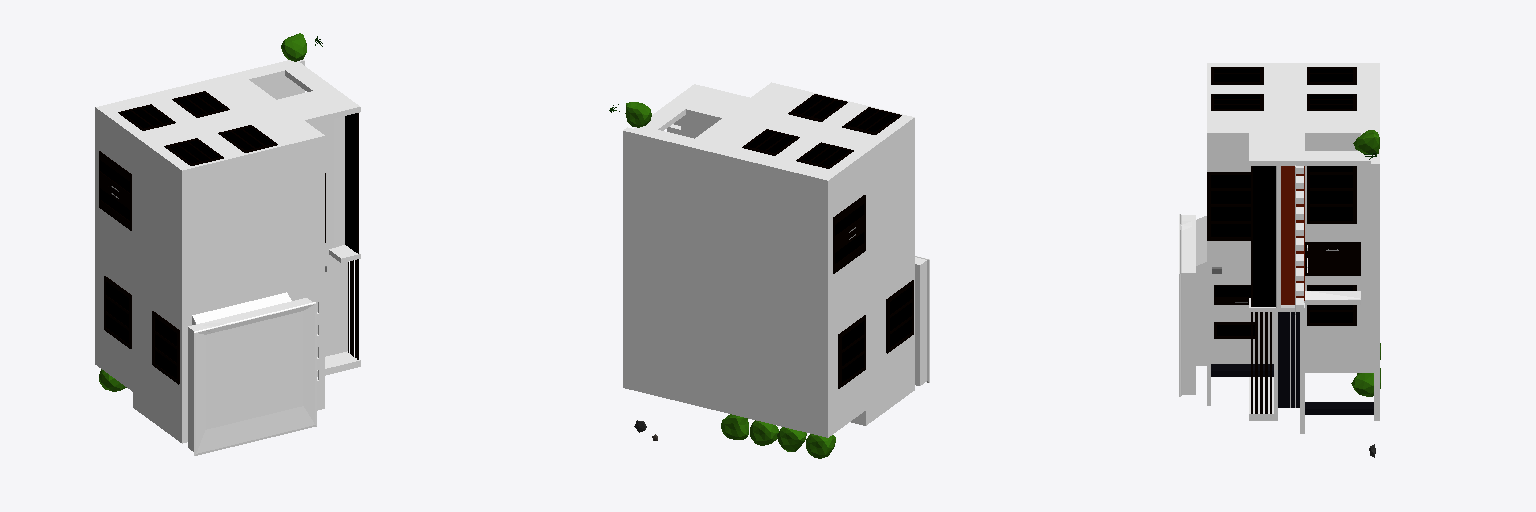
Rendered from modern_house_base_v5_lowpoly.obj.
3 views of the same model, side by side, from view 1: azimuth 30°, elevation 25°; view 2: azimuth 150°, elevation 25°; view 3: azimuth 270°, elevation 25° (orthographic).
Parts seen in each view (by area): view 1: house2 house1, house2 windowGlass6, house2 windowGlass13, house2 windowGlass12, house2 door3, house2 door1, house2 windowGlass14, house_adjacent_landscaping NaturePackBush1, house2 windowGlass15; view 2: house2 house1, house2 windowGlass13, house2 windowGlass12, house2 door3, house2 door1, house_adjacent_landscaping NatureFreePack1:NaturePackBush1, NaturePackBush2 house_adjacent_landscaping, house_adjacent_landscaping NatureFreePack1:NaturePackBush2, house2 windowGlass14, house2 windowGlass15, house_adjacent_landscaping NaturePackBush1, house_adjacent_landscaping NaturePackBush4; view 3: house2 house1, house2 windowGlass6, house2 windowGlass5, house2 windowGlass4, house2 door, house2 windowGlass7, house2 windowGlass14, house2 windowGlass15.
Part boxes in pixels (bbox=[...]): house2 house1: bbox=[95, 59, 360, 455]; house2 windowGlass6: bbox=[345, 113, 356, 252]; house2 windowGlass13: bbox=[106, 282, 128, 343]; house2 windowGlass12: bbox=[155, 318, 176, 378]; house2 door3: bbox=[99, 151, 131, 202]; house2 door1: bbox=[99, 180, 131, 230]; house2 windowGlass14: bbox=[169, 140, 218, 163]; house_adjacent_landscaping NaturePackBush1: bbox=[281, 33, 306, 61]; house2 windowGlass15: bbox=[224, 127, 273, 149]; house2 house1: bbox=[623, 82, 929, 437]; house2 windowGlass13: bbox=[842, 321, 863, 382]; house2 windowGlass12: bbox=[890, 286, 911, 347]; house2 door3: bbox=[833, 195, 865, 245]; house2 door1: bbox=[833, 223, 865, 273]; house_adjacent_landscaping NatureFreePack1:NaturePackBush1: bbox=[721, 414, 748, 439]; NaturePackBush2 house_adjacent_landscaping: bbox=[806, 434, 835, 458]; house_adjacent_landscaping NatureFreePack1:NaturePackBush2: bbox=[750, 420, 778, 445]; house2 windowGlass14: bbox=[847, 109, 896, 131]; house2 windowGlass15: bbox=[793, 96, 843, 118]; house_adjacent_landscaping NaturePackBush1: bbox=[625, 102, 651, 127]; house_adjacent_landscaping NaturePackBush4: bbox=[777, 427, 806, 451]; house2 house1: bbox=[1179, 63, 1379, 433]; house2 windowGlass6: bbox=[1253, 166, 1275, 306]; house2 windowGlass5: bbox=[1211, 175, 1250, 236]; house2 windowGlass4: bbox=[1310, 166, 1352, 220]; house2 door: bbox=[1308, 245, 1360, 272]; house2 windowGlass7: bbox=[1310, 286, 1352, 322]; house2 windowGlass14: bbox=[1214, 69, 1259, 81]; house2 windowGlass15: bbox=[1214, 95, 1259, 108].
Size of the model in its own units: 133 by 187 by 102.